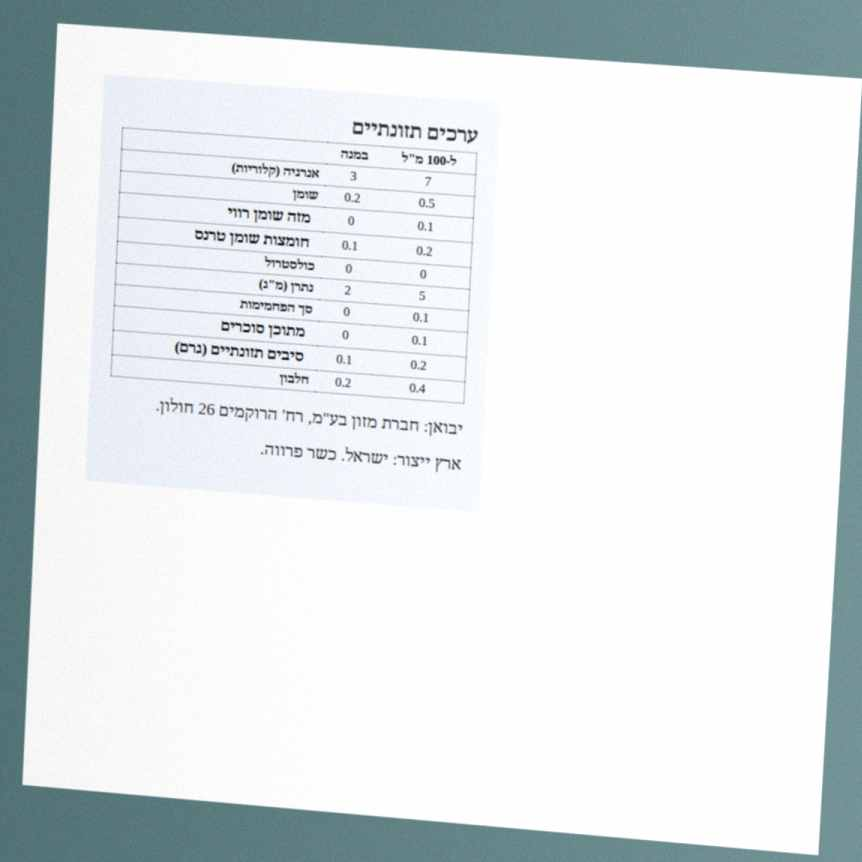carbs: (411, 308, 431, 328)
energy: (423, 173, 433, 192)
fat: (417, 194, 437, 214)
protein: (407, 379, 428, 399)
